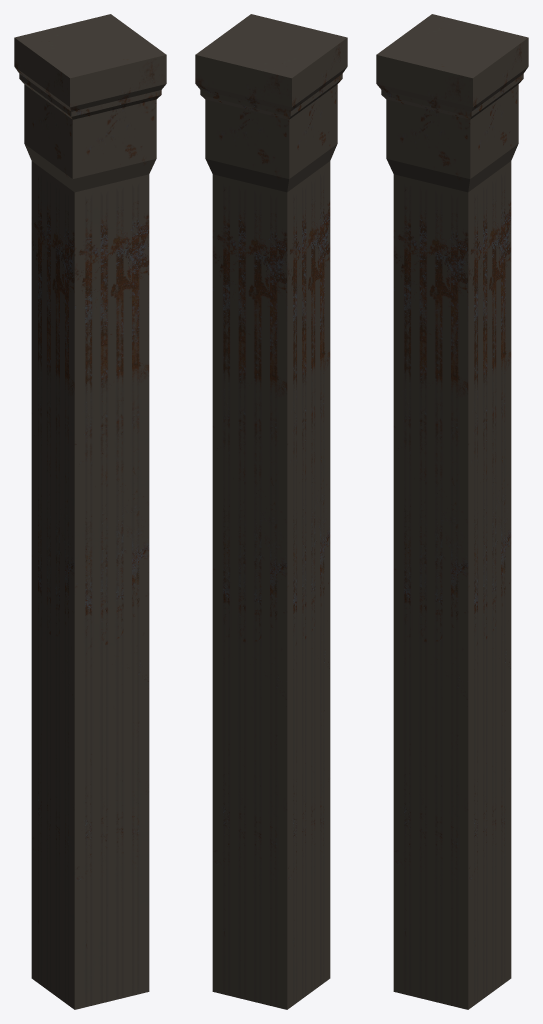
File: Metal_Column_Small_Top.gltf
The picture shows the model from 3 angles, left to right: view 1: azimuth 30°, elevation 25°; view 2: azimuth 150°, elevation 25°; view 3: azimuth 330°, elevation 25°; orthographic projection.
Visible parts, largest first — view 1: Metal_Column_Small_Top; view 2: Metal_Column_Small_Top; view 3: Metal_Column_Small_Top.
Boxes of the visible parts, x1,y1,x2,y2 form: Metal_Column_Small_Top: (14,14,166,1009); Metal_Column_Small_Top: (195,14,347,1009); Metal_Column_Small_Top: (376,14,528,1009).
Bounding box in the file's own units: 0.3221 × 3 × 0.3223.
1 material, 1 textured.
